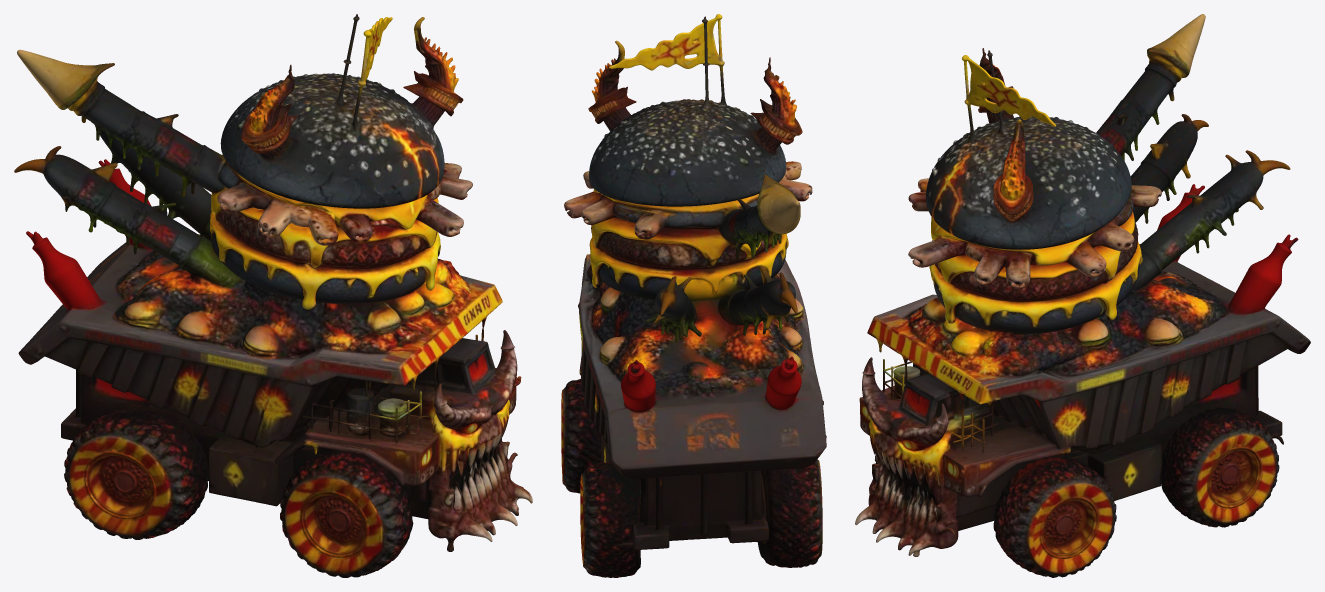
File: borgirboss.glb
3 renders of one model, left to right at view 1: azimuth 30°, elevation 25°; view 2: azimuth 150°, elevation 25°; view 3: azimuth 270°, elevation 25°, orthographic. The views are drawn at different scales.
Parts seen in each view (by area): view 1: node_0; view 2: node_0; view 3: node_0.
Boxes of the visible parts, x1,y1,x2,y2 form: node_0: (14,14,532,577); node_0: (561,14,826,577); node_0: (855,14,1310,577).
Bounding box in the file's own units: 0.7085 × 0.9232 × 0.7958.
1 material, 1 textured.
